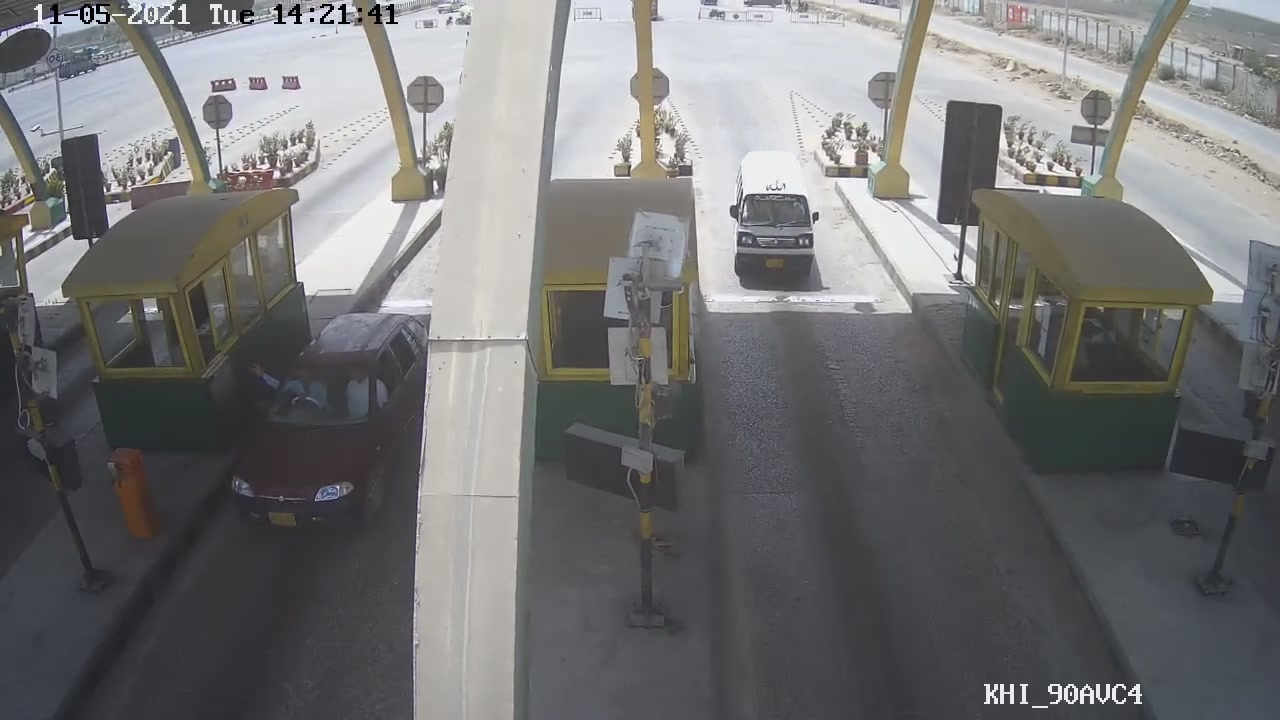F1: (718, 149, 831, 282)
